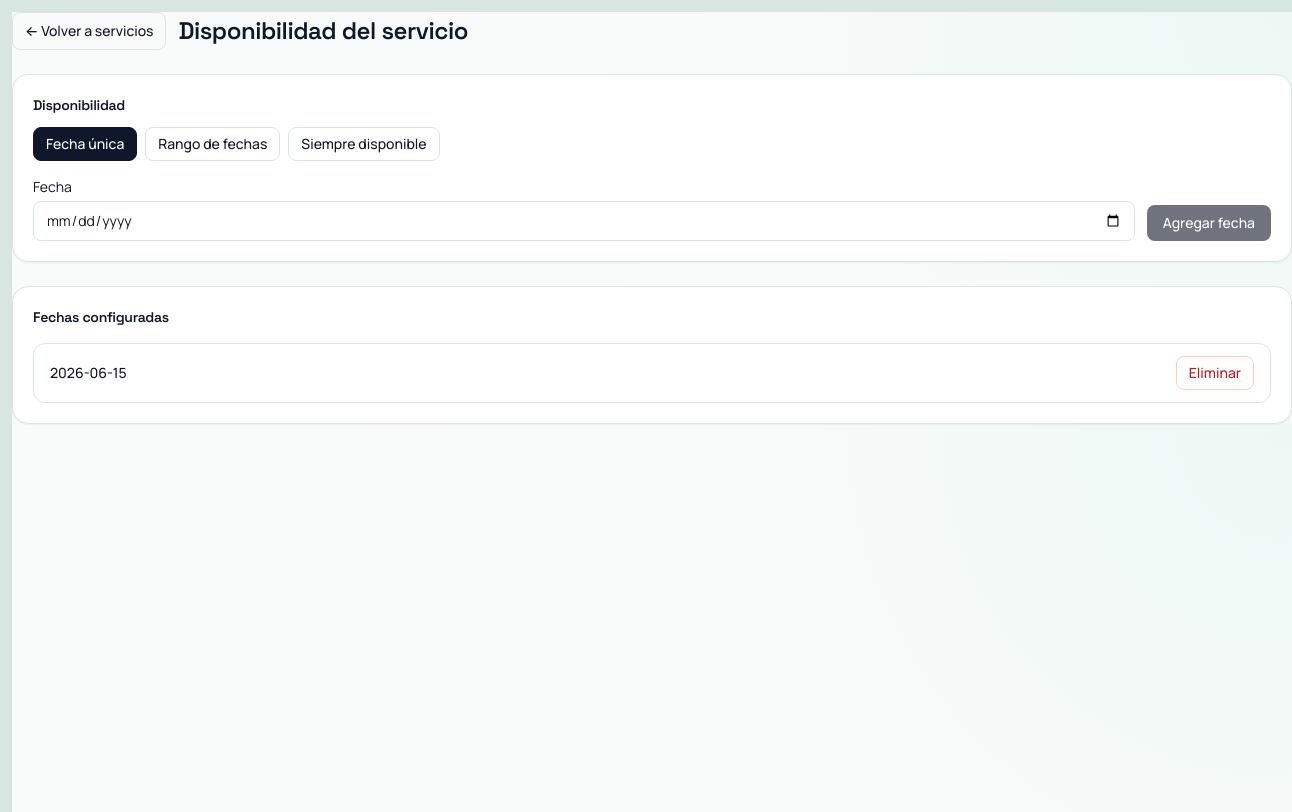
Test: AdminServiceAvailabilityPage › shows Spanish error message when remove fails
The image size is (1292, 812).
Expected: the text "2026-06-15" is shown, [50,363,127,383]
Click the button "Eliminar" at x=1215, y=373, box [1176,356,1254,390]
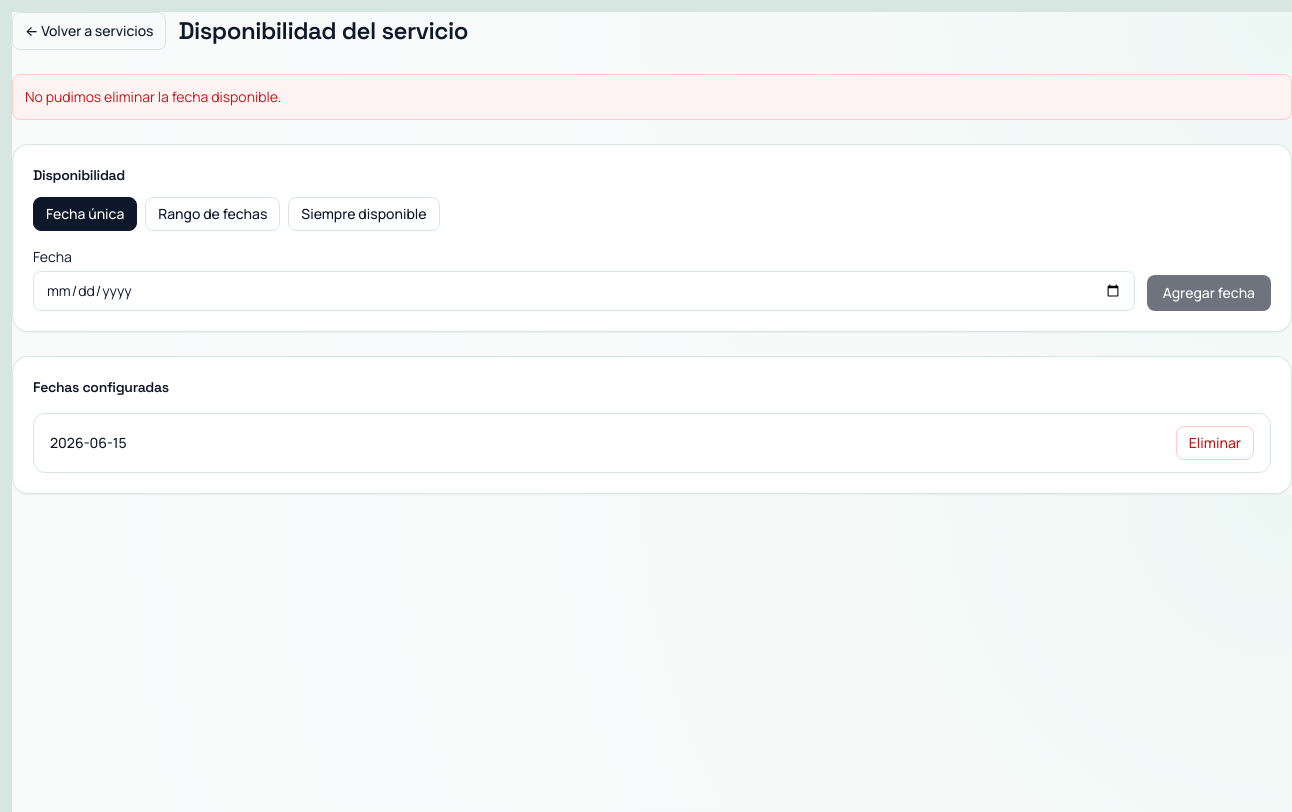
Now the text "No pudimos eliminar la fecha disponible." is shown, box [12,74,1291,120]
